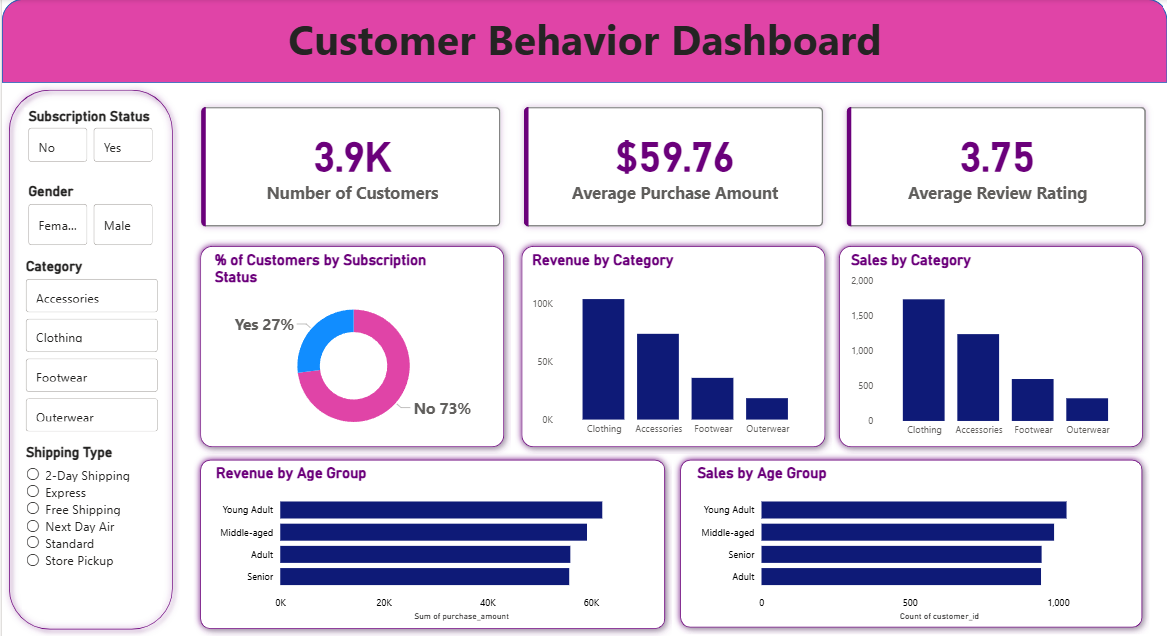

Layout of this report page (visuals, bound fields, positions):
{"tool":"powerbi","page":{"name":"Page 1","canvas":[1500,820],"ordinal":0},"visuals":[{"type":"cardVisual","fields":{"Data":["public customer.Number of Customers","public customer.Average Purchase Amount","public customer.Average Review Rating"]},"box":[228.6,110.7,1271.4,210.7],"z":0},{"type":"shape","box":[0,0,1500.3,107.7],"z":1000},{"type":"textbox","box":[0,9.6,1500.3,98.1],"z":2000},{"type":"shape","box":[246.4,308.9,408.9,276.8],"z":3000},{"type":"shape","box":[658.9,308.9,408.9,276.8],"z":4000},{"type":"shape","box":[1067.9,308.9,408.9,276.8],"z":5000},{"type":"donutChart","title":"% of Customers by Subscription Status","fields":{"Category":["public customer.subscription_status"],"Y":["CountNonNull(public customer.customer_id)"]},"box":[267.9,325,367.9,246.4],"z":6000},{"type":"clusteredColumnChart","title":"Revenue by Category","fields":{"Y":["Sum(public customer.purchase_amount)"],"Category":["public customer.category"]},"box":[676.8,325,369.6,246.4],"z":7000},{"type":"clusteredColumnChart","title":"Sales by Category","fields":{"Category":["public customer.category"],"Y":["CountNonNull(public customer.customer_id)"]},"box":[1087.5,325,371.4,248.2],"z":8000},{"type":"shape","box":[0,107.1,228.6,712.5],"z":9000},{"type":"advancedSlicerVisual","fields":{"Values":["public customer.subscription_status"]},"box":[28.6,139.3,171.4,83.9],"z":10000},{"type":"advancedSlicerVisual","fields":{"Values":["public customer.gender"]},"box":[28.6,235.7,171.4,85.7],"z":11000},{"type":"advancedSlicerVisual","fields":{"Values":["public customer.category"]},"box":[25,332.1,180.4,230.4],"z":12000},{"type":"listSlicer","fields":{"Values":["public customer.shipping_type"]},"box":[25,573.2,180.4,212.5],"z":13000},{"type":"shape","box":[246.4,583.9,616.1,235.7],"z":14000},{"type":"clusteredBarChart","title":"Revenue by Age Group","fields":{"Y":["Sum(public customer.purchase_amount)"],"Category":["public customer.age_group"]},"box":[269.6,598.2,569.6,207.1],"z":15000},{"type":"shape","box":[864.3,583.9,612.5,233.9],"z":15001},{"type":"clusteredBarChart","title":"Sales by Age Group","fields":{"Y":["CountNonNull(public customer.customer_id)"],"Category":["public customer.age_group"]},"box":[889.3,598.2,566.1,207.1],"z":15002}]}

Visuals, with their boxes in screenshot pixels (x1, y1, x2, y2), scaled from the page's 1500x820 canvas onto the 1167x636 screenshot:
cardVisual - public customer.Number of Customers x public customer.Average Purchase Amount: region(178, 86, 1166, 249)
shape: region(0, 0, 1166, 84)
textbox: region(0, 7, 1166, 84)
shape: region(192, 240, 510, 454)
shape: region(513, 240, 831, 454)
shape: region(831, 240, 1149, 454)
"% of Customers by Subscription Status" donutChart: region(208, 252, 495, 443)
"Revenue by Category" clusteredColumnChart: region(527, 252, 814, 443)
"Sales by Category" clusteredColumnChart: region(846, 252, 1135, 445)
shape: region(0, 83, 178, 635)
advancedSlicerVisual - public customer.subscription_status: region(22, 108, 156, 173)
advancedSlicerVisual - public customer.gender: region(22, 183, 156, 249)
advancedSlicerVisual - public customer.category: region(19, 258, 160, 436)
listSlicer - public customer.shipping_type: region(19, 445, 160, 609)
shape: region(192, 453, 671, 635)
"Revenue by Age Group" clusteredBarChart: region(210, 464, 653, 625)
shape: region(672, 453, 1149, 634)
"Sales by Age Group" clusteredBarChart: region(692, 464, 1132, 625)
